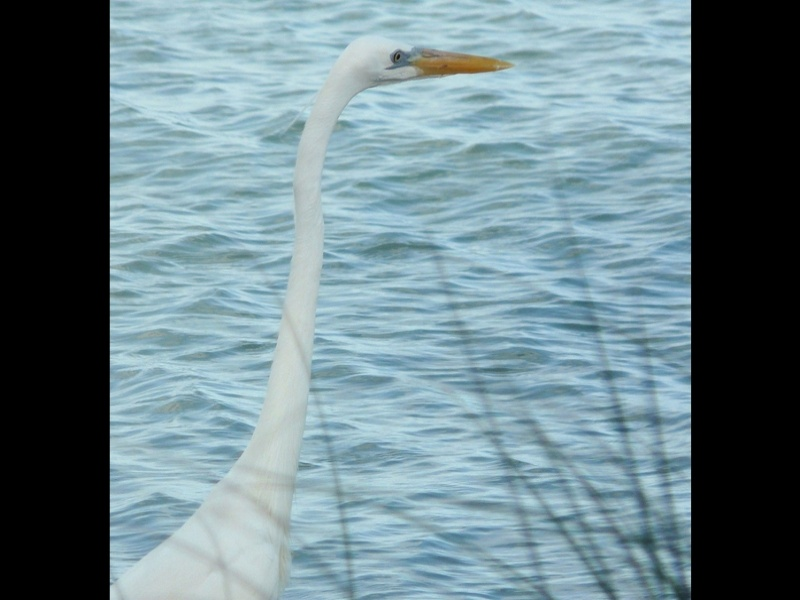heron: (116, 37, 516, 594)
